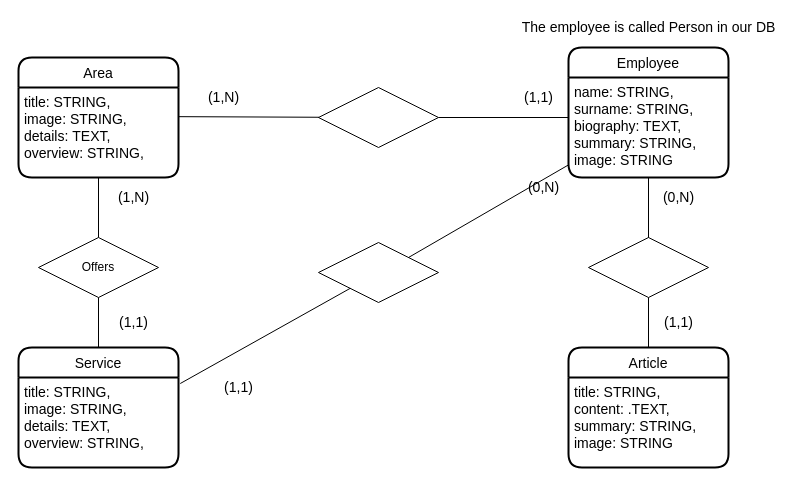
Image size: 800x485. Some labels were removed from this diagram. Each missing label, with the centre of its shape:
Creates: (x=648, y=267)
Manages: (x=378, y=272)
Worksin: (x=378, y=117)
